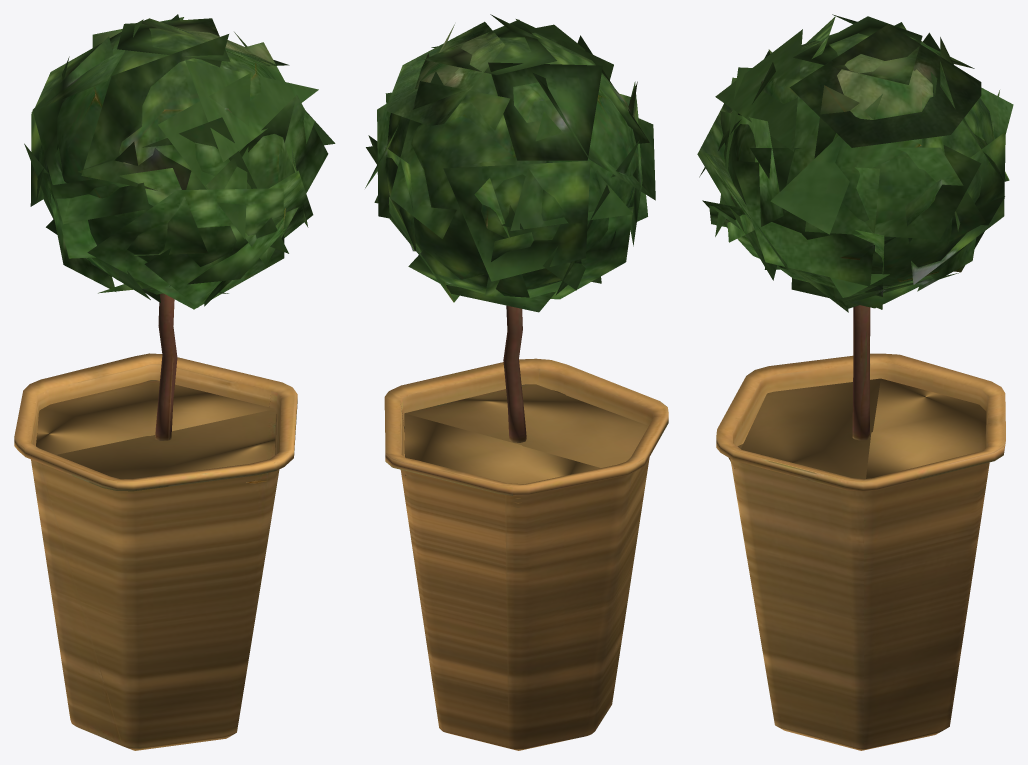
File: topiary_planter.glb
The picture shows the model from 3 angles, left to right: view 1: azimuth 30°, elevation 25°; view 2: azimuth 150°, elevation 25°; view 3: azimuth 270°, elevation 25°; orthographic projection. The views are drawn at different scales.
Bounding box in the file's own units: 0.7117 × 1.7 × 0.7004.
1 material, 1 textured.
